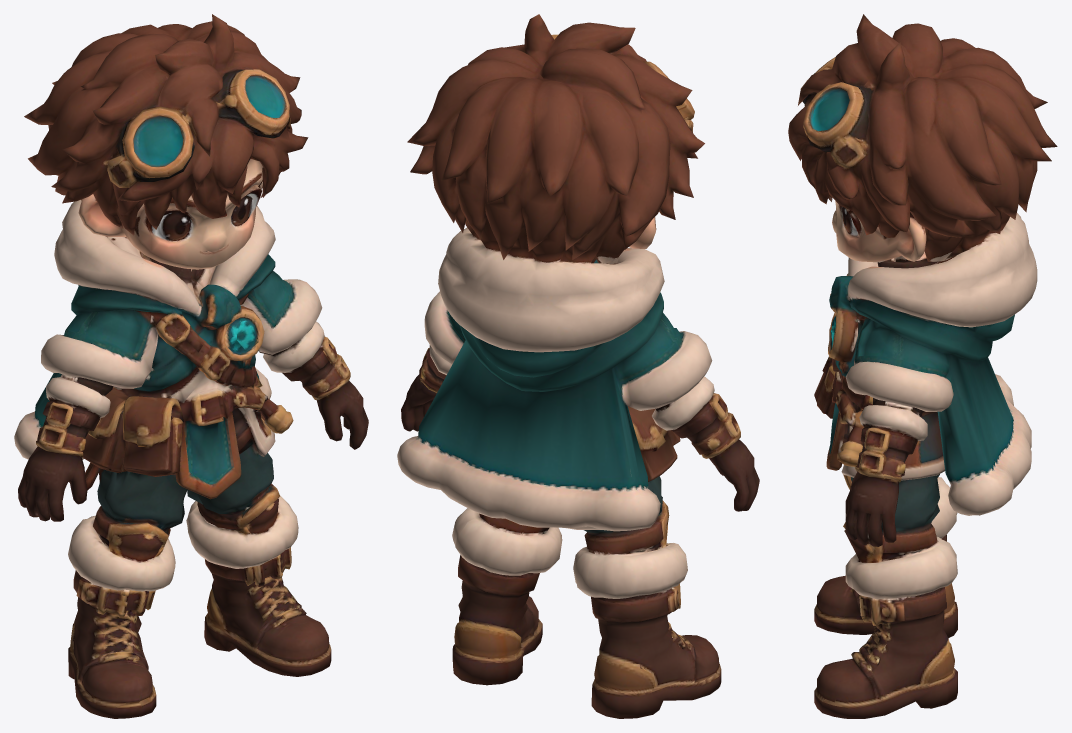
Rendered from Costume_NeutralArcherM.glb.
The picture shows the model from 3 angles, left to right: view 1: azimuth 30°, elevation 25°; view 2: azimuth 150°, elevation 25°; view 3: azimuth 270°, elevation 25°; orthographic projection. The views are drawn at different scales.
Visible parts, largest first — view 1: Body, Head; view 2: Body, Head; view 3: Head, Body.
Part boxes in pixels (x1,y1,x2,y2): Body: (14, 277, 368, 718); Head: (24, 14, 308, 340); Body: (397, 291, 759, 718); Head: (407, 14, 704, 362); Head: (788, 14, 1057, 358); Body: (814, 313, 1031, 718).
Size of the model in its own units: 0.5405 by 0.9759 by 0.3762.
2 materials, 2 textured.
